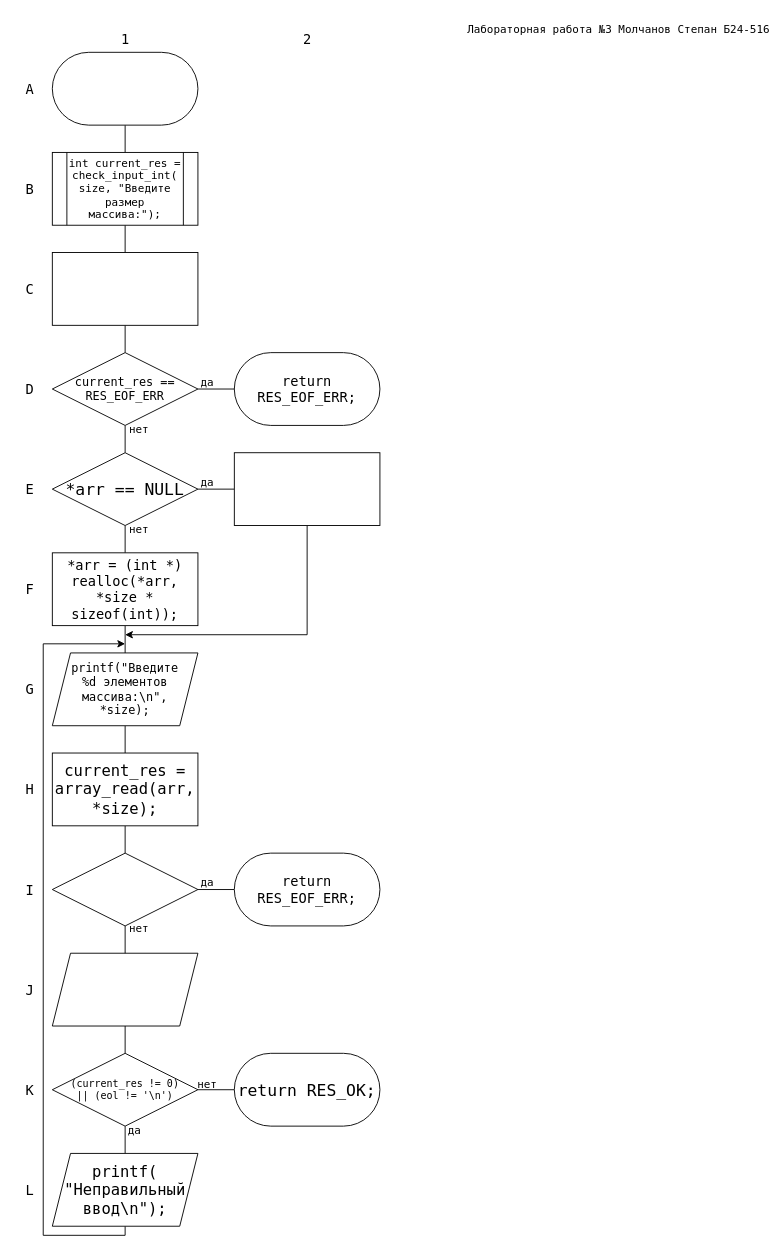
The diagram is 784 pixels wide and 1259 high, and some of its shapes have lost their labels. Here are the shapes that lost their labels. From the top down, the centre of each, then its label:
At point (124, 88): "Начало Res array_init(int **arr, int *size)".
At point (124, 288): "char eol;".
At point (306, 489): "*arr = (int *) calloc(*size, sizeof(int));".
At point (124, 889): "current_res == SCANF_EOF".
At point (124, 989): "eol = getchar();".
